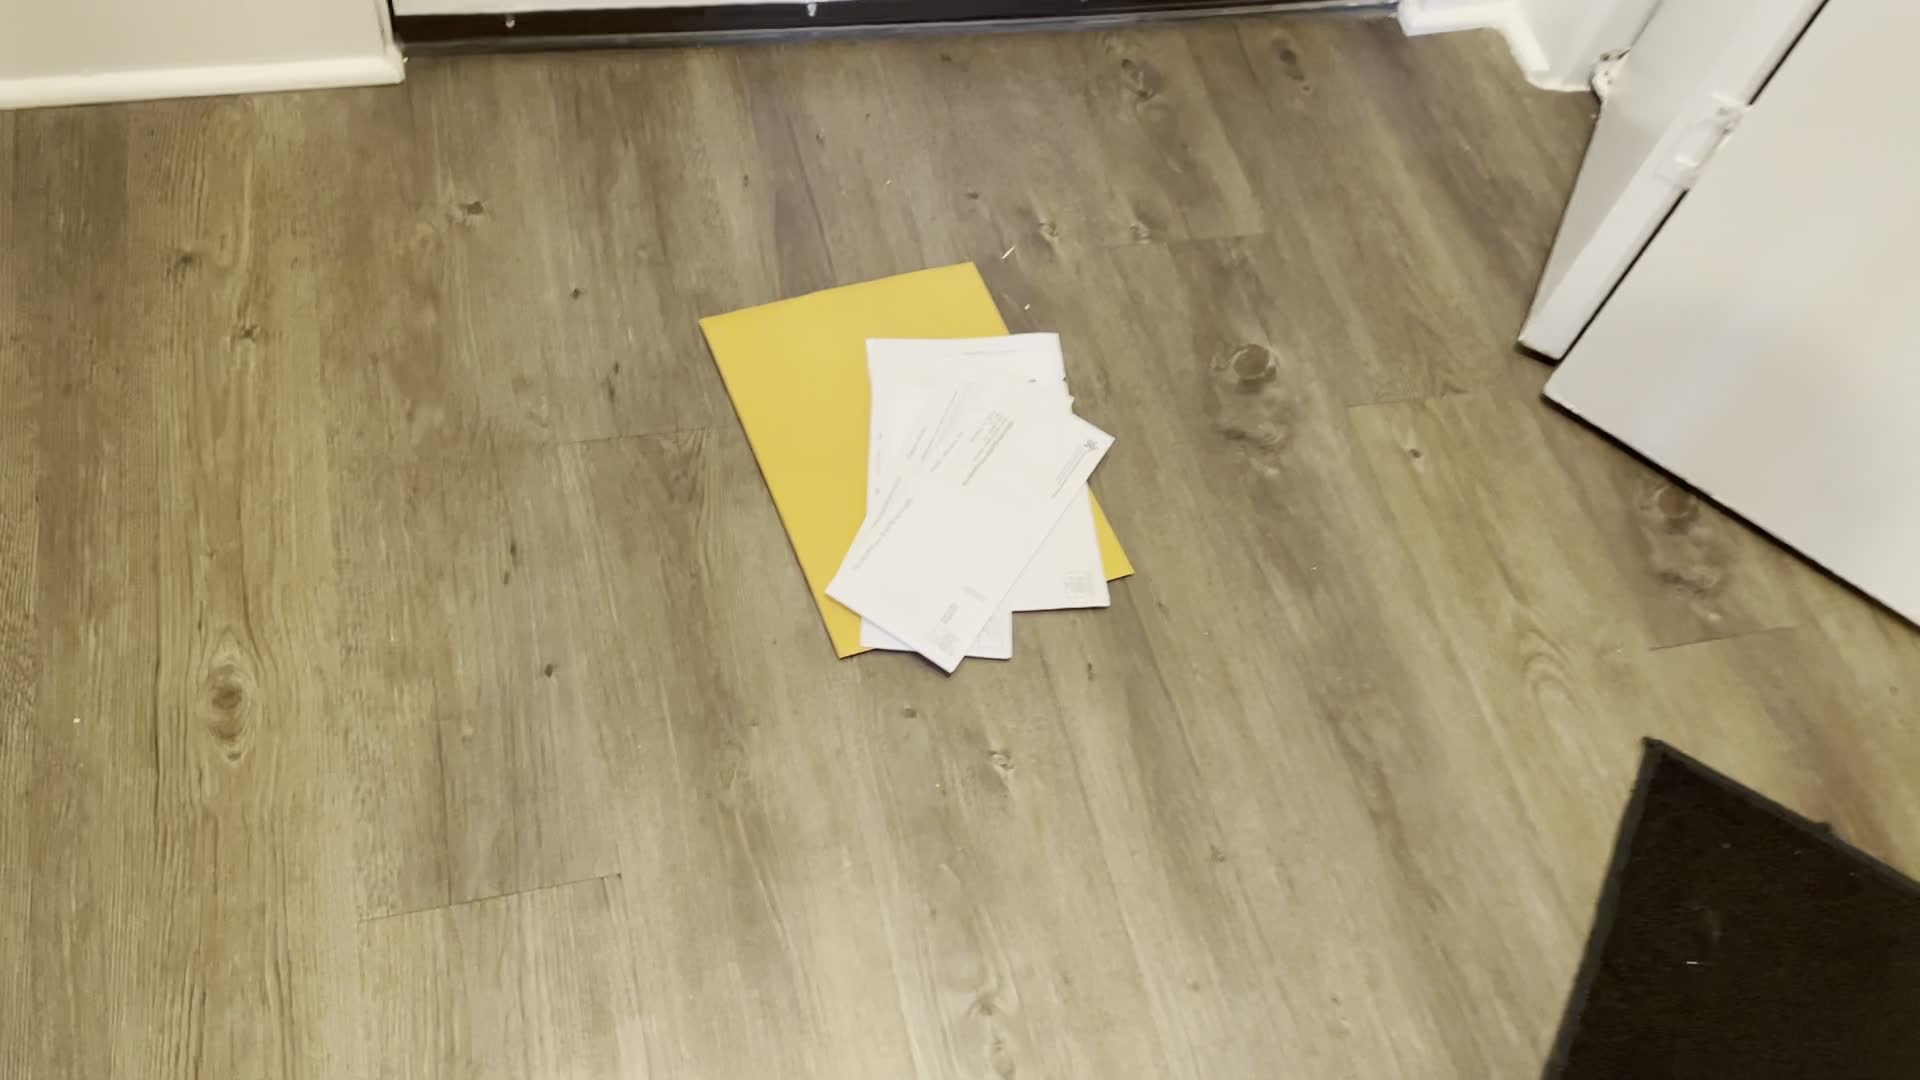envelope: (673, 248, 1155, 676), (814, 320, 1110, 663)
